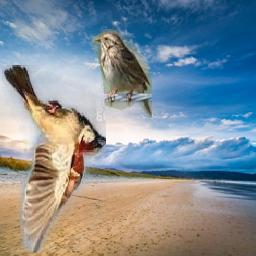Sparrow: (2, 65, 106, 253), (92, 30, 153, 119)
